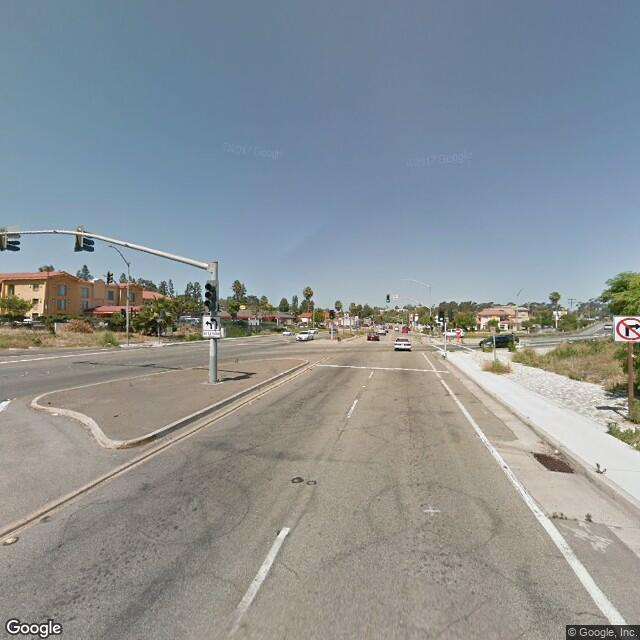litter: (553, 446, 562, 455), (49, 411, 59, 416)
